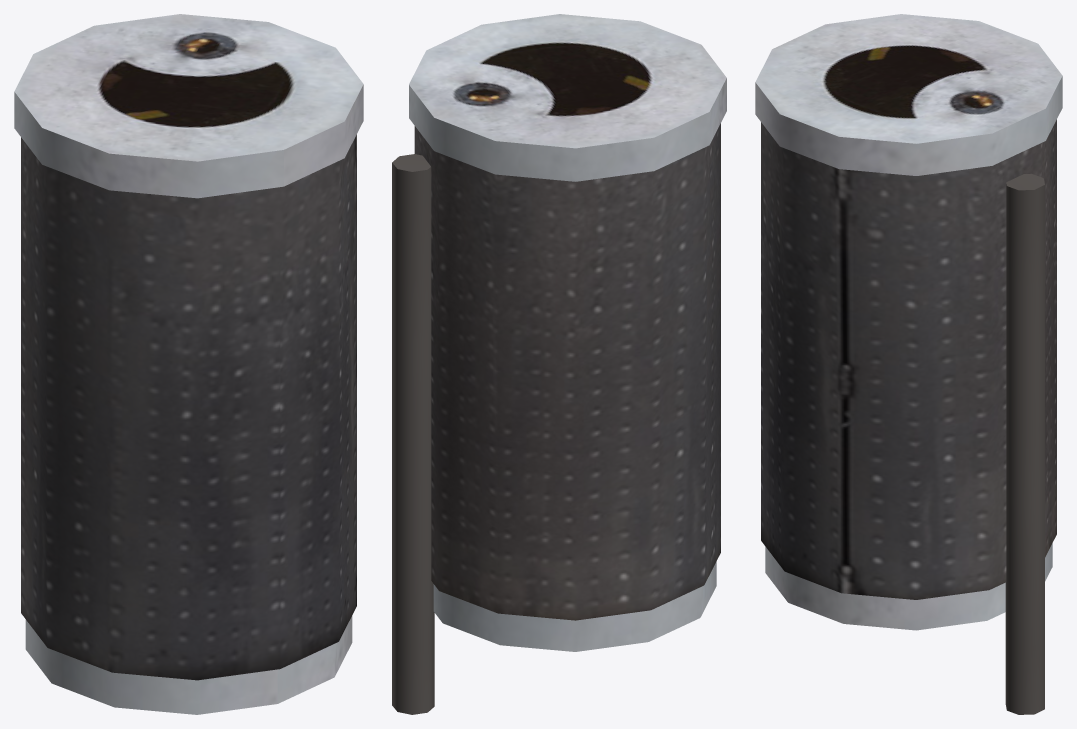
File: GarbageCan_A.FBX
The picture shows the model from 3 angles, left to right: view 1: azimuth 30°, elevation 25°; view 2: azimuth 150°, elevation 25°; view 3: azimuth 270°, elevation 25°; orthographic projection. The views are drawn at different scales.
Visible parts, largest first — view 1: Recycle_bin001; view 2: Recycle_bin001; view 3: Recycle_bin001.
Boxes of the visible parts, x1,y1,x2,y2 form: Recycle_bin001: [14, 14, 363, 714]; Recycle_bin001: [392, 14, 726, 714]; Recycle_bin001: [755, 14, 1062, 714].
Bounding box in the file's own units: 42.46 × 88.96 × 42.46.
Materials: 1 (1 with a texture image).
